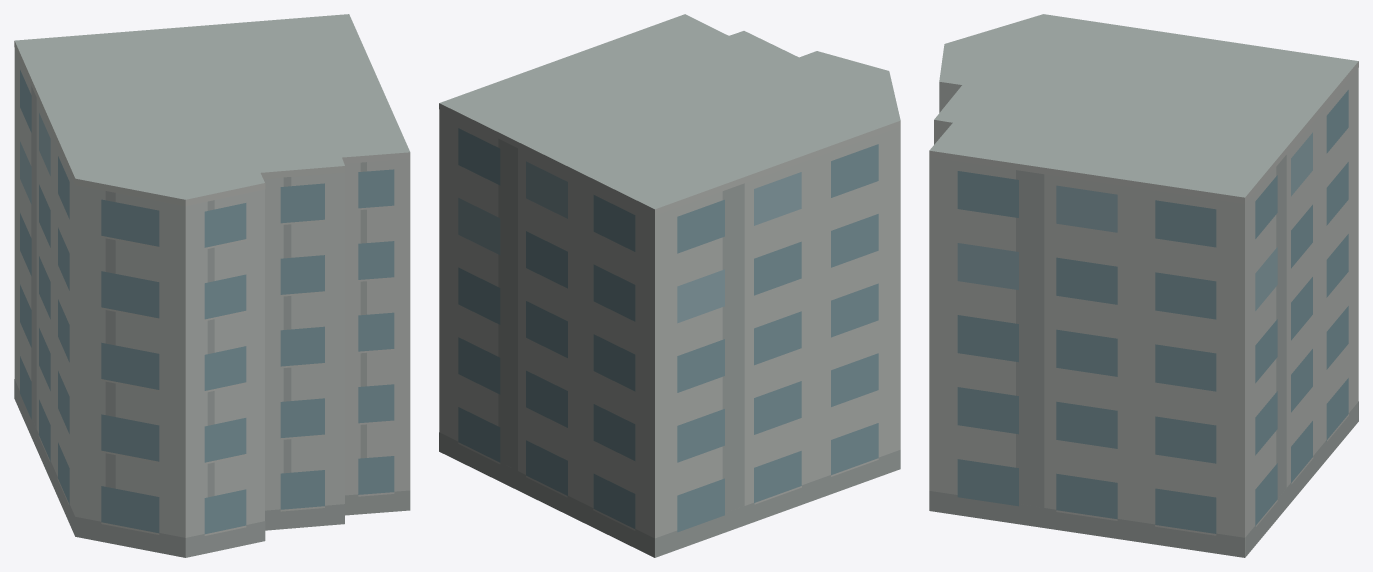
The model's file is survey-upis-32707450.glb.
3 views of the same model, side by side, from view 1: azimuth 30°, elevation 25°; view 2: azimuth 150°, elevation 25°; view 3: azimuth 270°, elevation 25° (orthographic). The views are drawn at different scales.
Visible parts, largest first — view 1: survey-upis-32707450.tmp; view 2: survey-upis-32707450.tmp; view 3: survey-upis-32707450.tmp.
Part boxes in pixels (x1,y1,x2,y2): survey-upis-32707450.tmp: (14, 14, 410, 557); survey-upis-32707450.tmp: (439, 14, 900, 557); survey-upis-32707450.tmp: (929, 14, 1358, 557).
Size of the model in its own units: 14.71 by 13.45 by 14.54.
